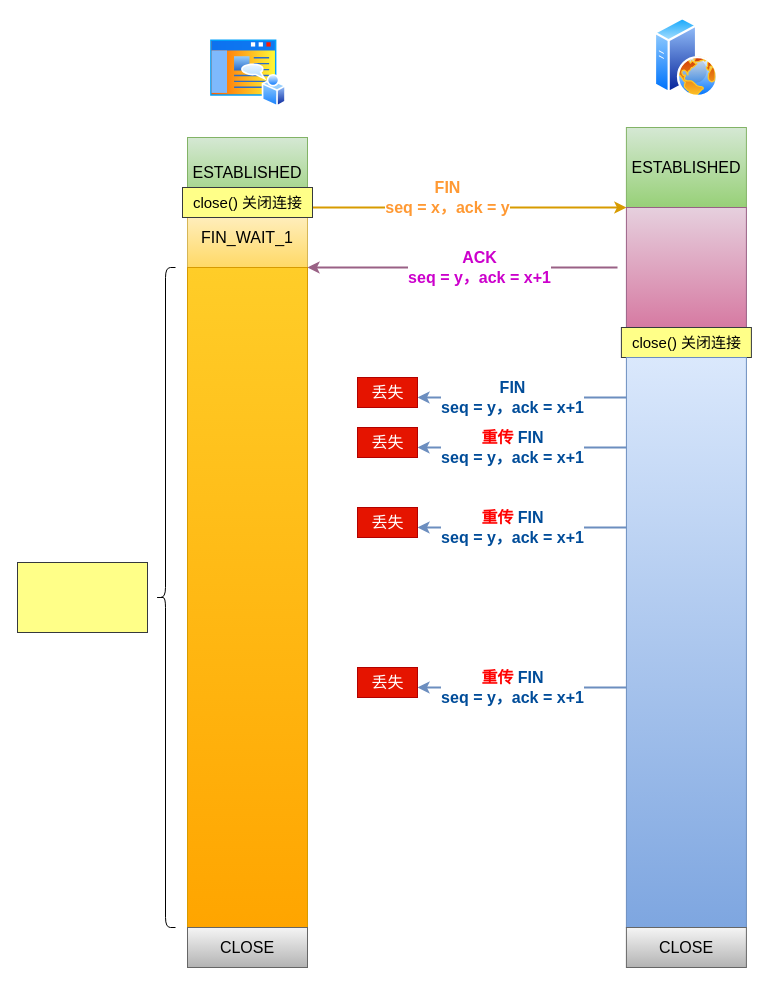
This 769x985 diagram has some shape labels left out. The box of each missing label's shape, as (x1, y1, x2, y2) in pixels:
CLOSE_WAIT: (625, 206, 746, 338)
FIN_WAIT_2: (186, 266, 308, 928)
LAST_ACK: (625, 356, 746, 928)
tcp_fin_timeout 控制时长， 默认值 60 秒: (16, 562, 148, 632)
客户端: (208, 37, 286, 107)
服务端: (654, 17, 718, 97)
